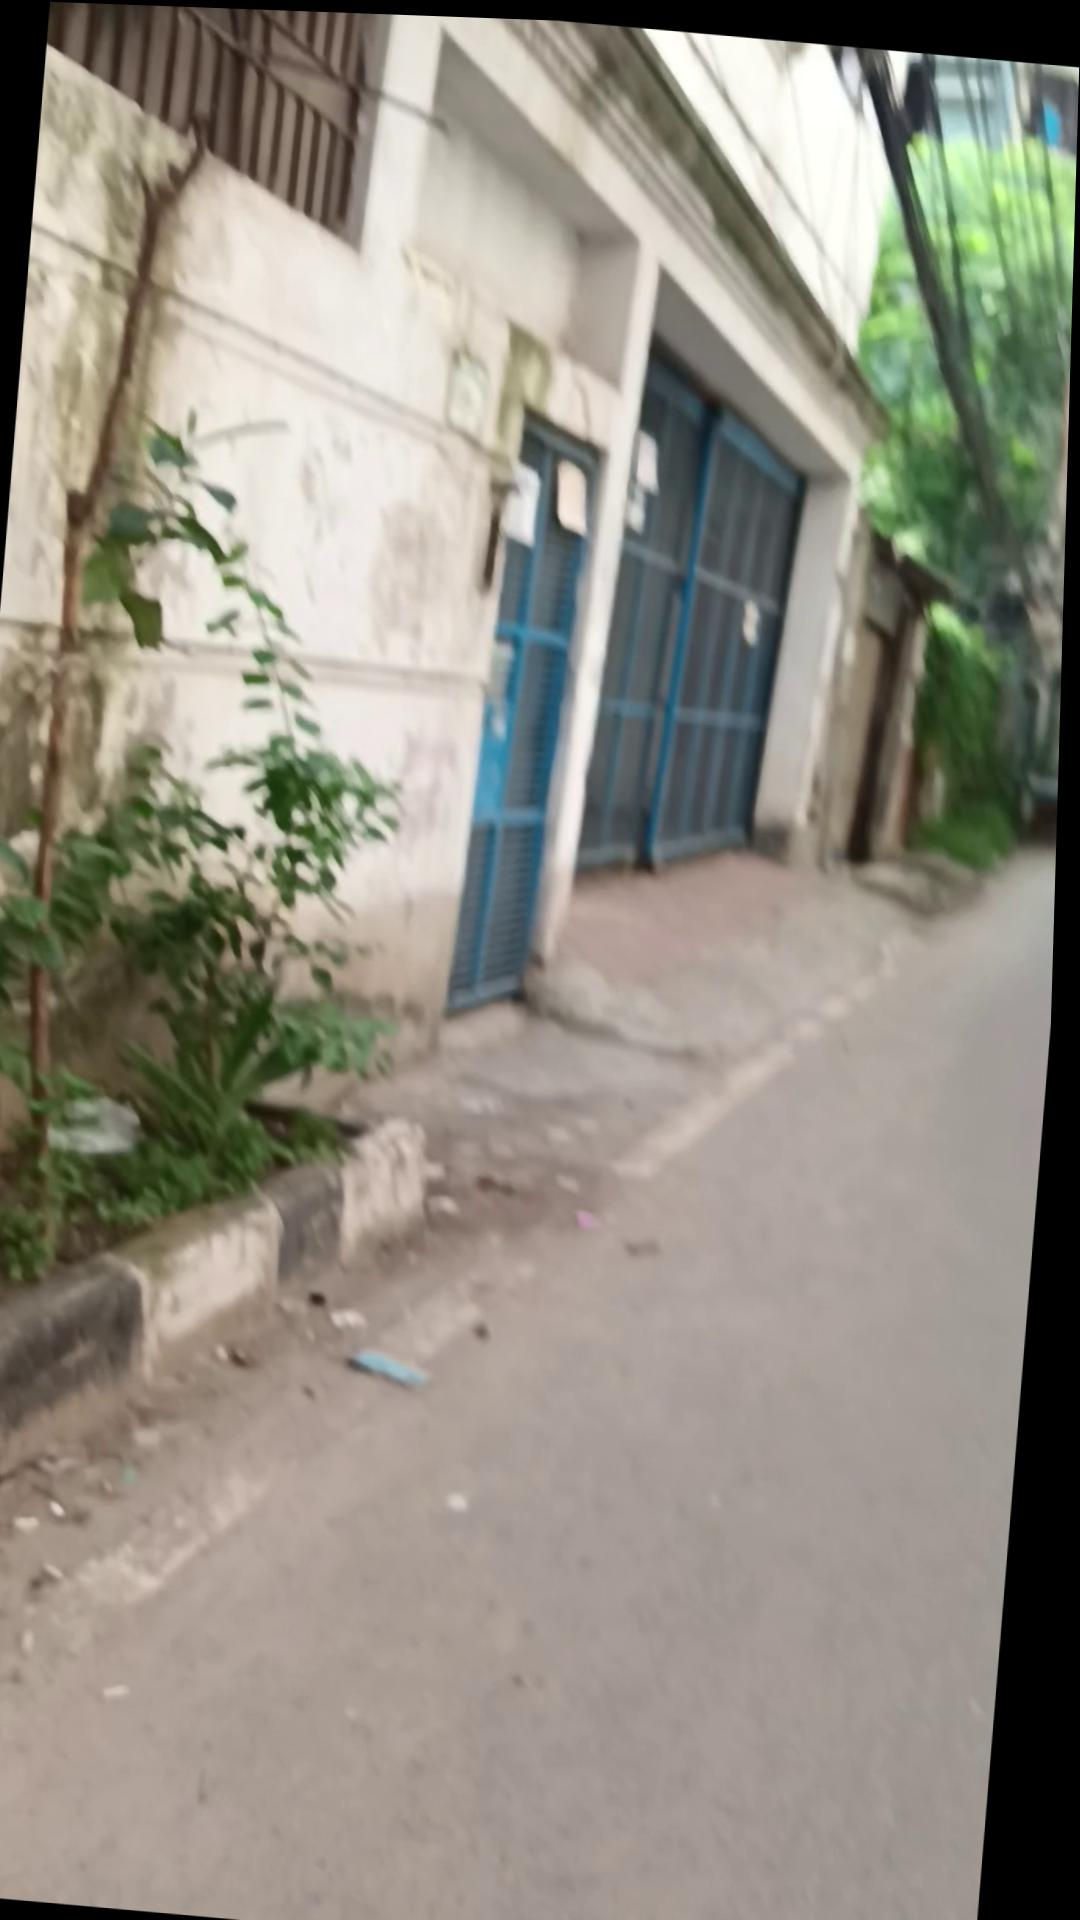Broken-road: (0, 1070, 446, 1527)
Light-pole: (811, 91, 1078, 872)
Obstacle: (0, 0, 559, 1166)
